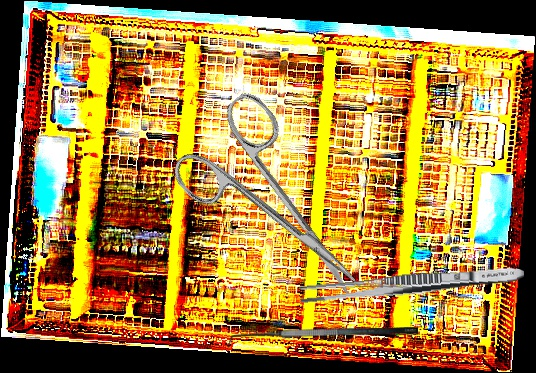Dressing Forceps: (298, 261, 526, 308)
Iris Scissors: (161, 86, 396, 333)
Spatula Surgical: (228, 326, 418, 351)
